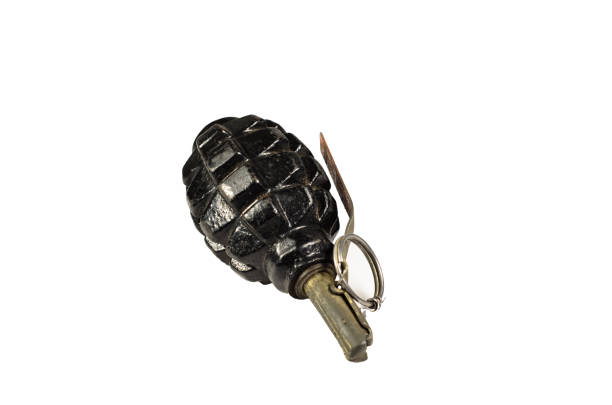e1: (181, 114, 385, 364)
